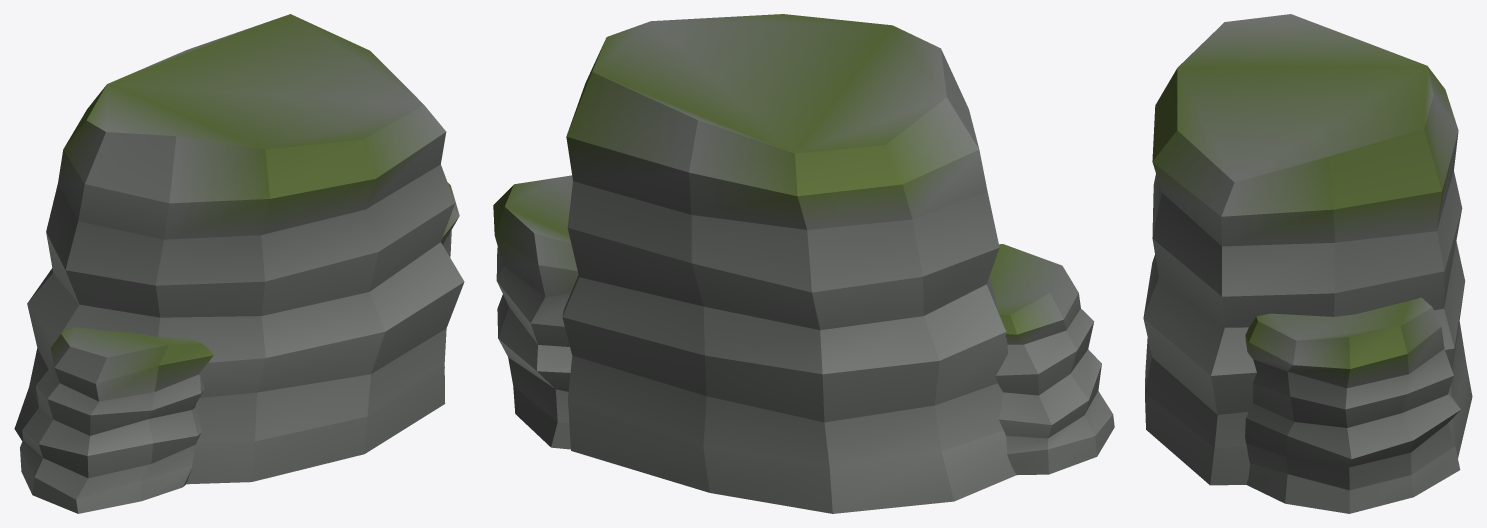
File: Boulder_variant_2.glb
3 renders of one model, left to right at view 1: azimuth 30°, elevation 25°; view 2: azimuth 150°, elevation 25°; view 3: azimuth 270°, elevation 25°, orthographic. The views are drawn at different scales.
Visible parts, largest first — view 1: Boulder_variant_2; view 2: Boulder_variant_2; view 3: Boulder_variant_2.
Boxes of the visible parts, <box> form: Boulder_variant_2: <box>14,14,464,513</box>; Boulder_variant_2: <box>493,14,1114,513</box>; Boulder_variant_2: <box>1143,14,1472,513</box>.
Size of the model in its own units: 1.98 by 1.29 by 1.16.
